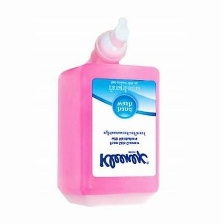cleaning_solution: (55, 10, 164, 212)
